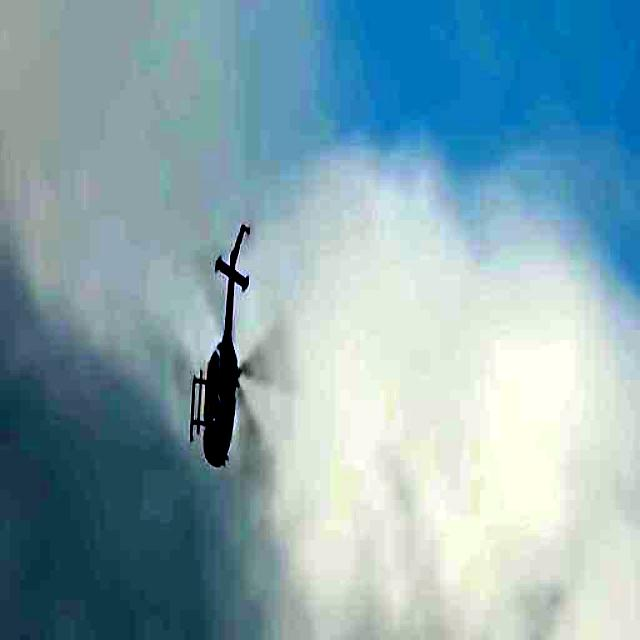drone: (174, 188, 276, 506)
